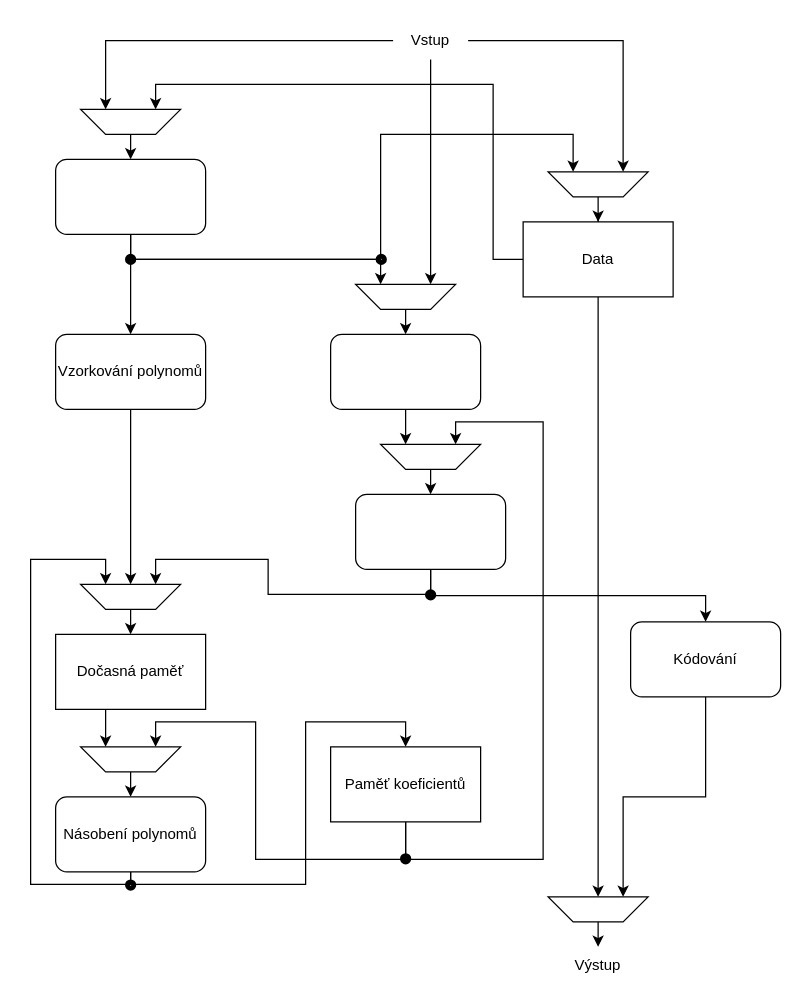
Some shapes in this 803 by 1005 pixel diagram are drawn without their labels. The box of each missing label's shape, as (x1, y1, x2, y2) in pixels:
Dekódování: (329, 333, 481, 409)
Keccak: (54, 158, 206, 234)
Komprese/Dekomprese: (354, 493, 506, 569)
